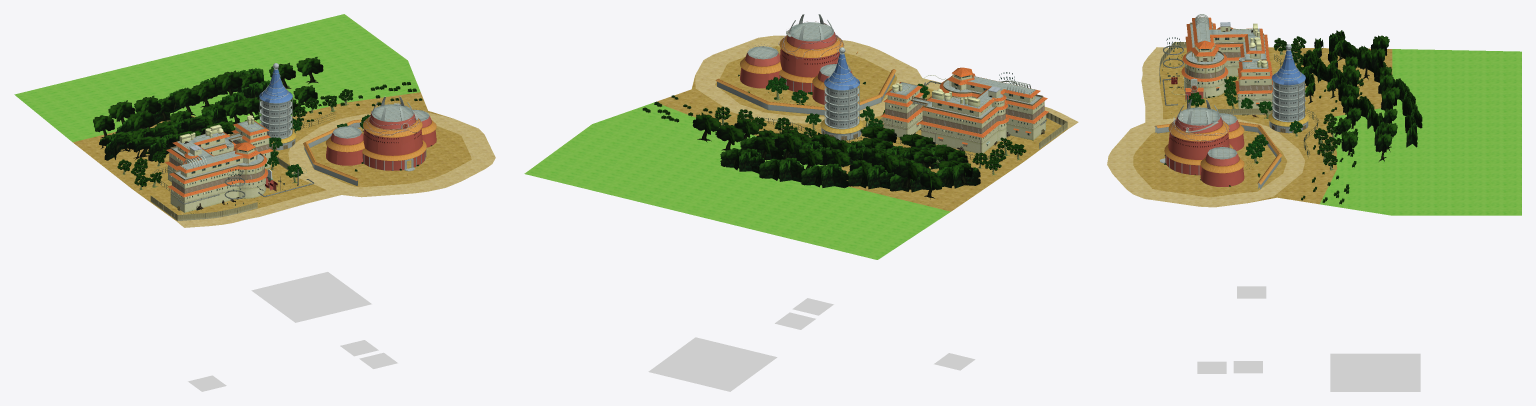
3 renders of one model, left to right at view 1: azimuth 30°, elevation 25°; view 2: azimuth 150°, elevation 25°; view 3: azimuth 270°, elevation 25°, orthographic. The views are drawn at different scales.
Parts seen in each view (by area): view 1: sa00bflo00_001, ki006_07_001, sa00cobj02_001, sa00bobj01_001, Quad_b, sa00jobj04_002, ki006_10_001, ha005_15_001, sa00cobj12_000, ha003_07_001, sa00cobj09_001; view 2: sa00bflo00_001, ki006_07_001, sa00cobj02_001, sa00bobj01_001, ki006_10_001, Quad_b, sa00jobj04_002, ha005_15_001, sa00cobj09_001, sa00cobj12_000; view 3: sa00bflo00_001, sa00cobj02_001, sa00bobj01_001, Quad_b, ki006_07_001, sa00jobj04_002, ki006_10_001, ha005_15_001, sa00cobj12_000, ha003_07_001, sa00cobj09_001.
Part boxes in pixels (x1=…): sa00bflo00_001: x1=14, y1=14, x2=495, y2=227; ki006_07_001: x1=93, y1=57, x2=323, y2=159; sa00cobj02_001: x1=259, y1=63, x2=436, y2=185; sa00bobj01_001: x1=150, y1=120, x2=292, y2=220; Quad_b: x1=188, y1=272, x2=397, y2=391; sa00jobj04_002: x1=169, y1=102, x2=429, y2=193; ki006_10_001: x1=104, y1=68, x2=269, y2=161; ha005_15_001: x1=117, y1=89, x2=353, y2=186; sa00cobj12_000: x1=171, y1=124, x2=314, y2=204; ha003_07_001: x1=146, y1=82, x2=422, y2=153; sa00cobj09_001: x1=303, y1=119, x2=407, y2=180; sa00bflo00_001: x1=524, y1=35, x2=1078, y2=259; ki006_07_001: x1=692, y1=112, x2=973, y2=199; sa00cobj02_001: x1=717, y1=14, x2=894, y2=140; sa00bobj01_001: x1=828, y1=67, x2=1067, y2=153; ki006_10_001: x1=720, y1=136, x2=980, y2=192; Quad_b: x1=648, y1=298, x2=975, y2=391; sa00jobj04_002: x1=747, y1=21, x2=1044, y2=133; ha005_15_001: x1=715, y1=106, x2=1026, y2=170; sa00cobj09_001: x1=715, y1=51, x2=896, y2=110; sa00cobj12_000: x1=883, y1=75, x2=1046, y2=152; sa00bflo00_001: x1=1107, y1=47, x2=1521, y2=215; sa00cobj02_001: x1=1155, y1=44, x2=1308, y2=189; sa00bobj01_001: x1=1159, y1=17, x2=1272, y2=114; Quad_b: x1=1197, y1=286, x2=1420, y2=391; ki006_07_001: x1=1301, y1=30, x2=1400, y2=161; sa00jobj04_002: x1=1177, y1=14, x2=1271, y2=159; ki006_10_001: x1=1303, y1=33, x2=1422, y2=147; ha005_15_001: x1=1273, y1=36, x2=1339, y2=166; sa00cobj12_000: x1=1162, y1=24, x2=1271, y2=107; ha003_07_001: x1=1301, y1=65, x2=1363, y2=204; sa00cobj09_001: x1=1140, y1=122, x2=1282, y2=184.
Bounding box in the file's own units: 231 × 186 × 240.
Materials: 42 (42 with a texture image).
